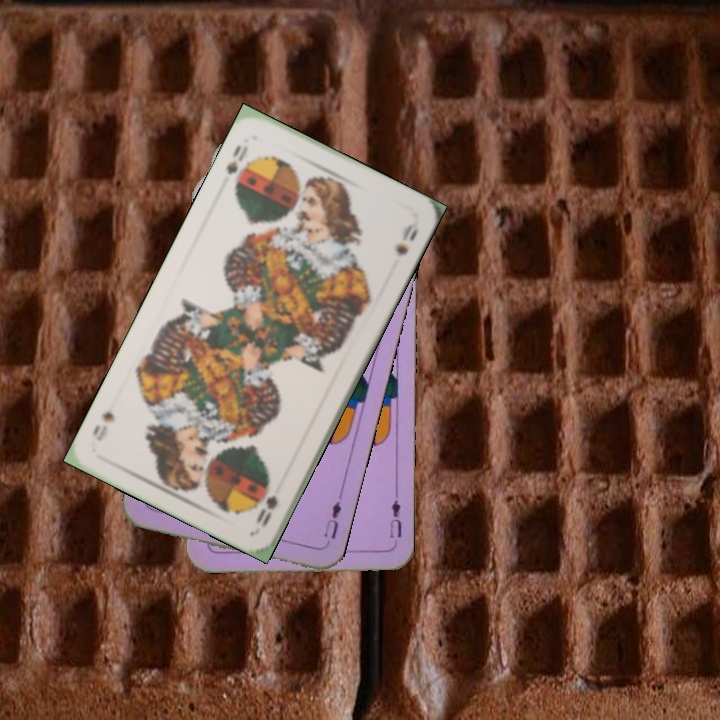EU: (319, 497, 344, 549), (386, 495, 404, 541)
SO: (251, 491, 281, 529), (222, 140, 251, 178)
